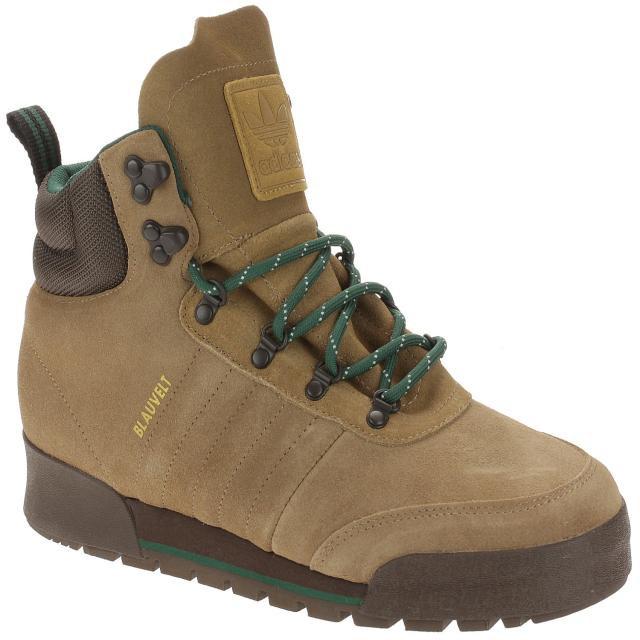boot: (8, 15, 633, 630)
